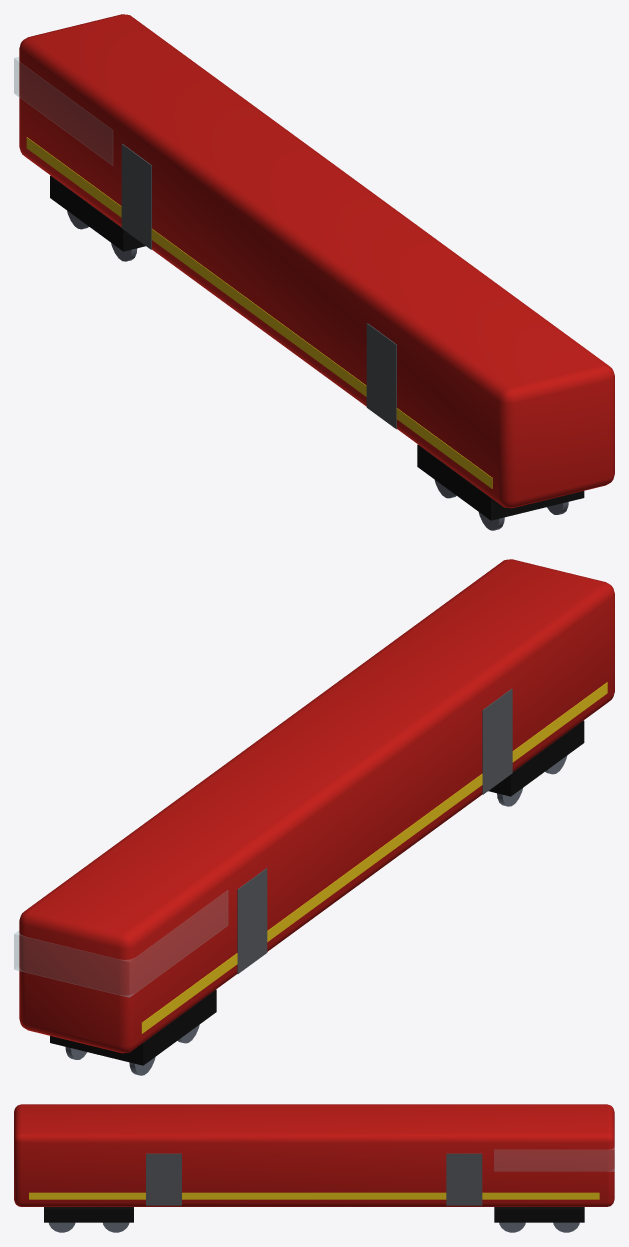
File: rail.train.loco.glb
3 views of the same model, one above another, from view 1: azimuth 30°, elevation 25°; view 2: azimuth 150°, elevation 25°; view 3: azimuth 270°, elevation 25° (orthographic). The views are drawn at different scales.
Parts seen in each view (by area): view 1: main__hazard_red, main__plastic_grey, main__plastic_yellow, main__plastic_black, main__glass, main__steel_painted; view 2: main__hazard_red, main__glass, main__plastic_grey, main__plastic_yellow, main__plastic_black, main__steel_painted; view 3: main__hazard_red, main__plastic_yellow, main__plastic_grey, main__plastic_black, main__glass, main__steel_painted.
Part boxes in pixels (x1=…): main__hazard_red: x1=19, y1=14, x2=614, y2=508; main__plastic_grey: x1=121, y1=144, x2=396, y2=429; main__plastic_yellow: x1=26, y1=137, x2=492, y2=488; main__plastic_black: x1=50, y1=175, x2=584, y2=520; main__glass: x1=14, y1=57, x2=112, y2=165; main__steel_painted: x1=67, y1=210, x2=568, y2=530; main__hazard_red: x1=19, y1=559, x2=614, y2=1053; main__glass: x1=14, y1=890, x2=227, y2=997; main__plastic_grey: x1=237, y1=689, x2=512, y2=973; main__plastic_yellow: x1=141, y1=682, x2=607, y2=1033; main__plastic_black: x1=50, y1=720, x2=584, y2=1065; main__steel_painted: x1=65, y1=755, x2=567, y2=1075; main__hazard_red: x1=14, y1=1104, x2=614, y2=1206; main__plastic_yellow: x1=29, y1=1192, x2=599, y2=1199; main__plastic_grey: x1=146, y1=1153, x2=482, y2=1205; main__plastic_black: x1=44, y1=1207, x2=584, y2=1222; main__glass: x1=494, y1=1146, x2=614, y2=1171; main__steel_painted: x1=49, y1=1222, x2=579, y2=1232.
Size of the model in its own units: 2.74 by 3.79 by 20.02.
